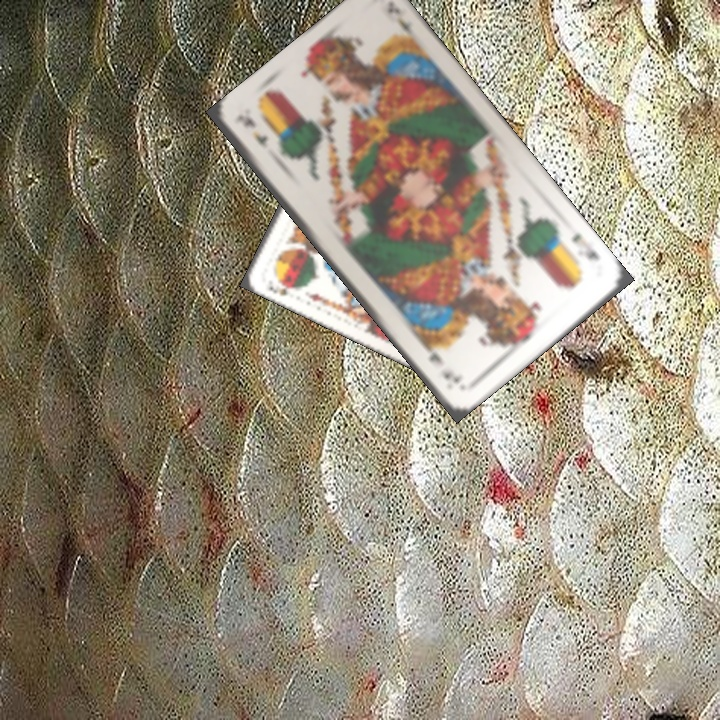EK: (567, 228, 602, 263), (239, 112, 271, 150)
SK: (264, 278, 298, 299)
